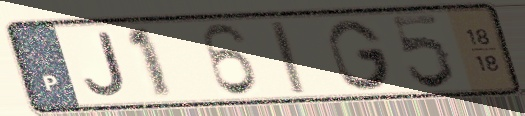1: (125, 25, 177, 101)
5: (388, 12, 459, 92)
6: (200, 21, 262, 99)
G: (324, 16, 396, 93)
I: (265, 18, 310, 97)
J: (81, 29, 131, 99)
